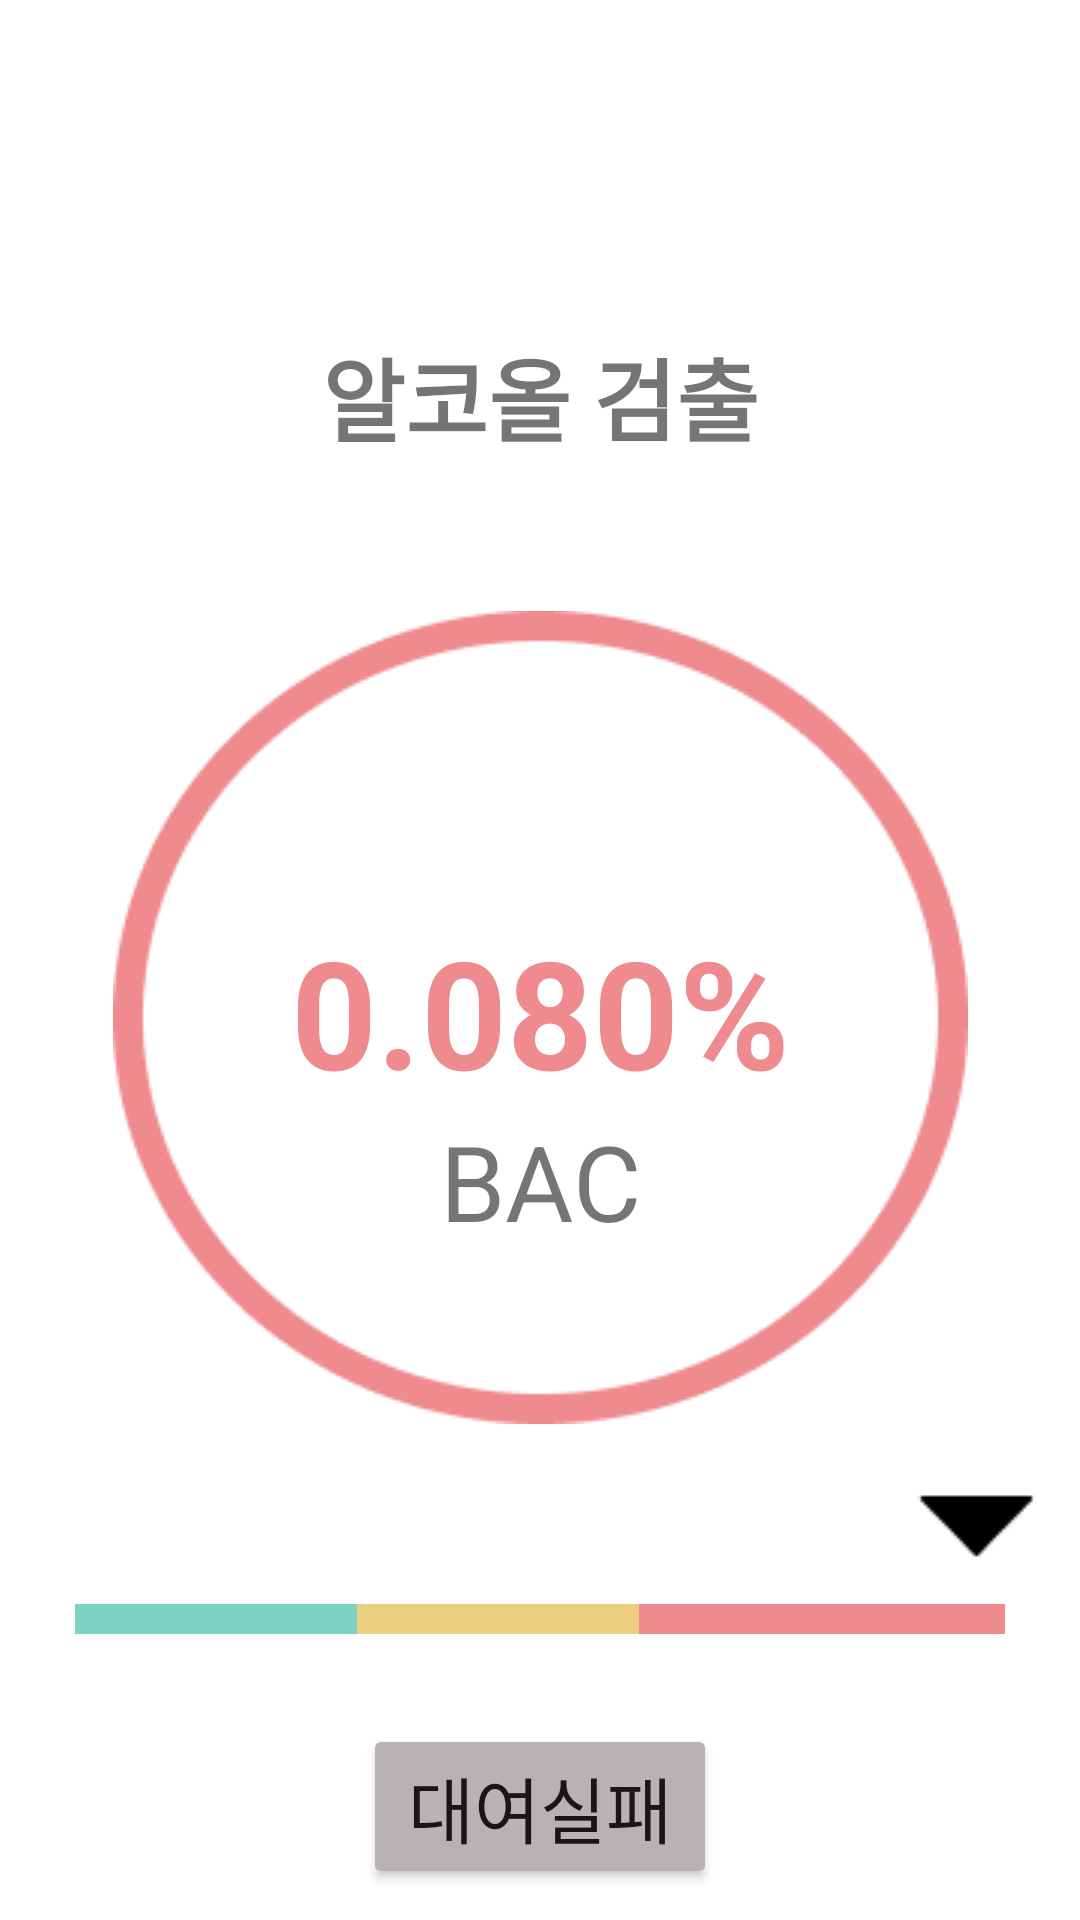

Locate icon controls on the screen. Image size 1080*1920, boxes as box(x1, y1, x2, y2).
downward arrow: box(919, 1495, 1033, 1557)
